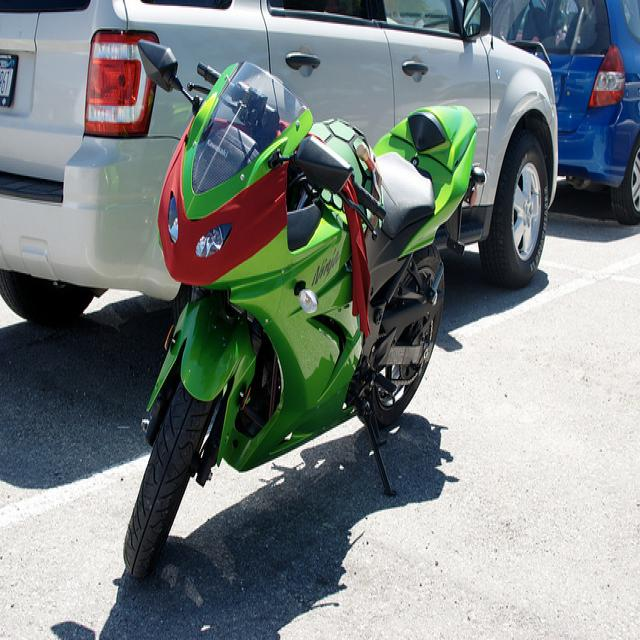motor: (124, 39, 491, 591)
